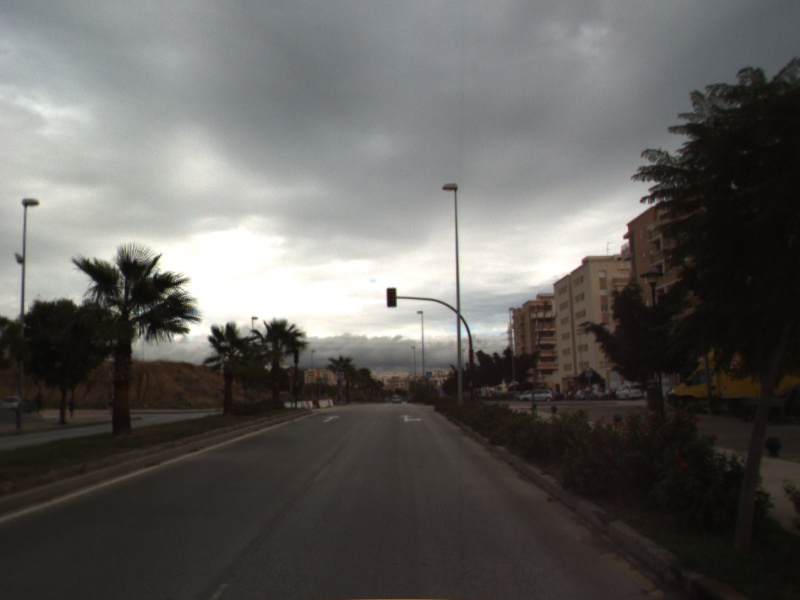STRAIGHT: (321, 413, 342, 424)
STRAIGHT_RIGHT: (398, 412, 425, 424)
